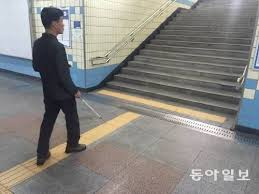guide_blocks: (28, 139, 87, 168), (89, 113, 141, 140), (1, 161, 33, 186)
